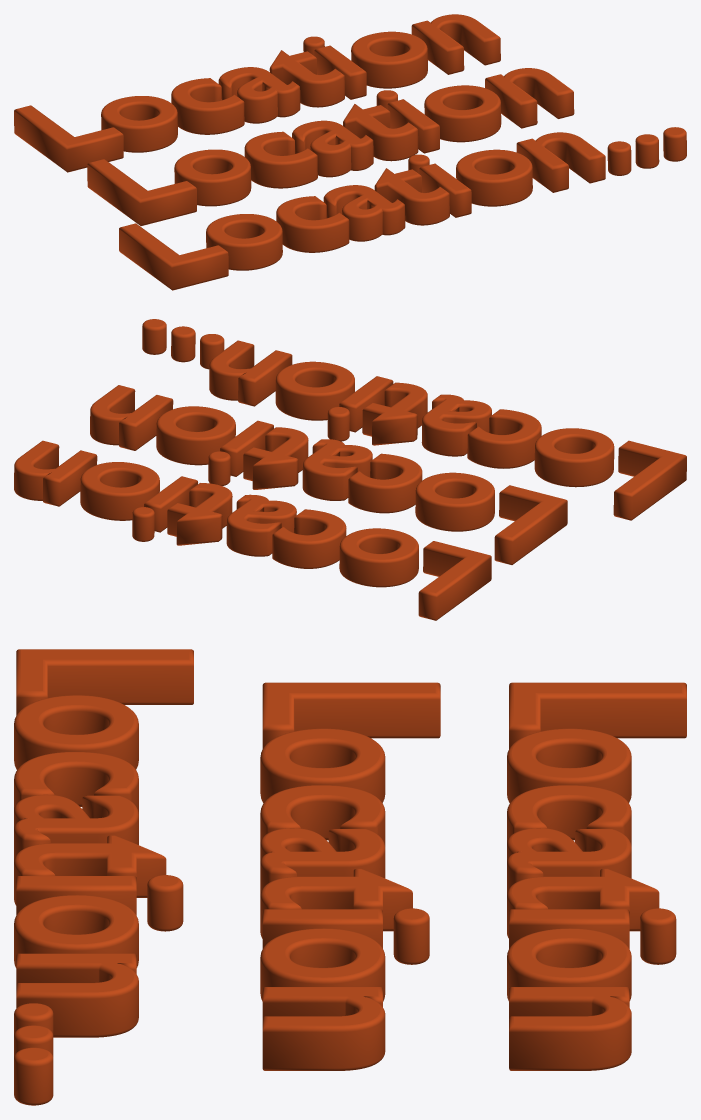
Rendered from location.glb.
The picture shows the model from 3 angles, top to bottom: view 1: azimuth 30°, elevation 25°; view 2: azimuth 150°, elevation 25°; view 3: azimuth 270°, elevation 25°; orthographic projection. The views are drawn at different scales.
Parts seen in each view (by area): view 1: GraciasPorParticipar; view 2: GraciasPorParticipar; view 3: GraciasPorParticipar.
Part boxes in pixels (left/top/right/bottom): GraciasPorParticipar: left=14, top=14, right=686, bottom=290; GraciasPorParticipar: left=14, top=319, right=686, bottom=620; GraciasPorParticipar: left=14, top=649, right=686, bottom=1105.
Bounding box in the file's own units: 4.09 × 0.248 × 2.73.
